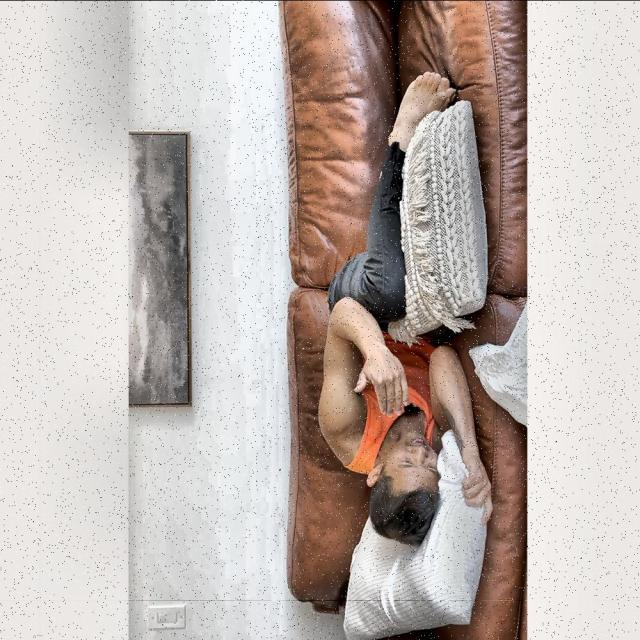Not_Supine: (319, 72, 455, 543), (430, 346, 491, 516)
